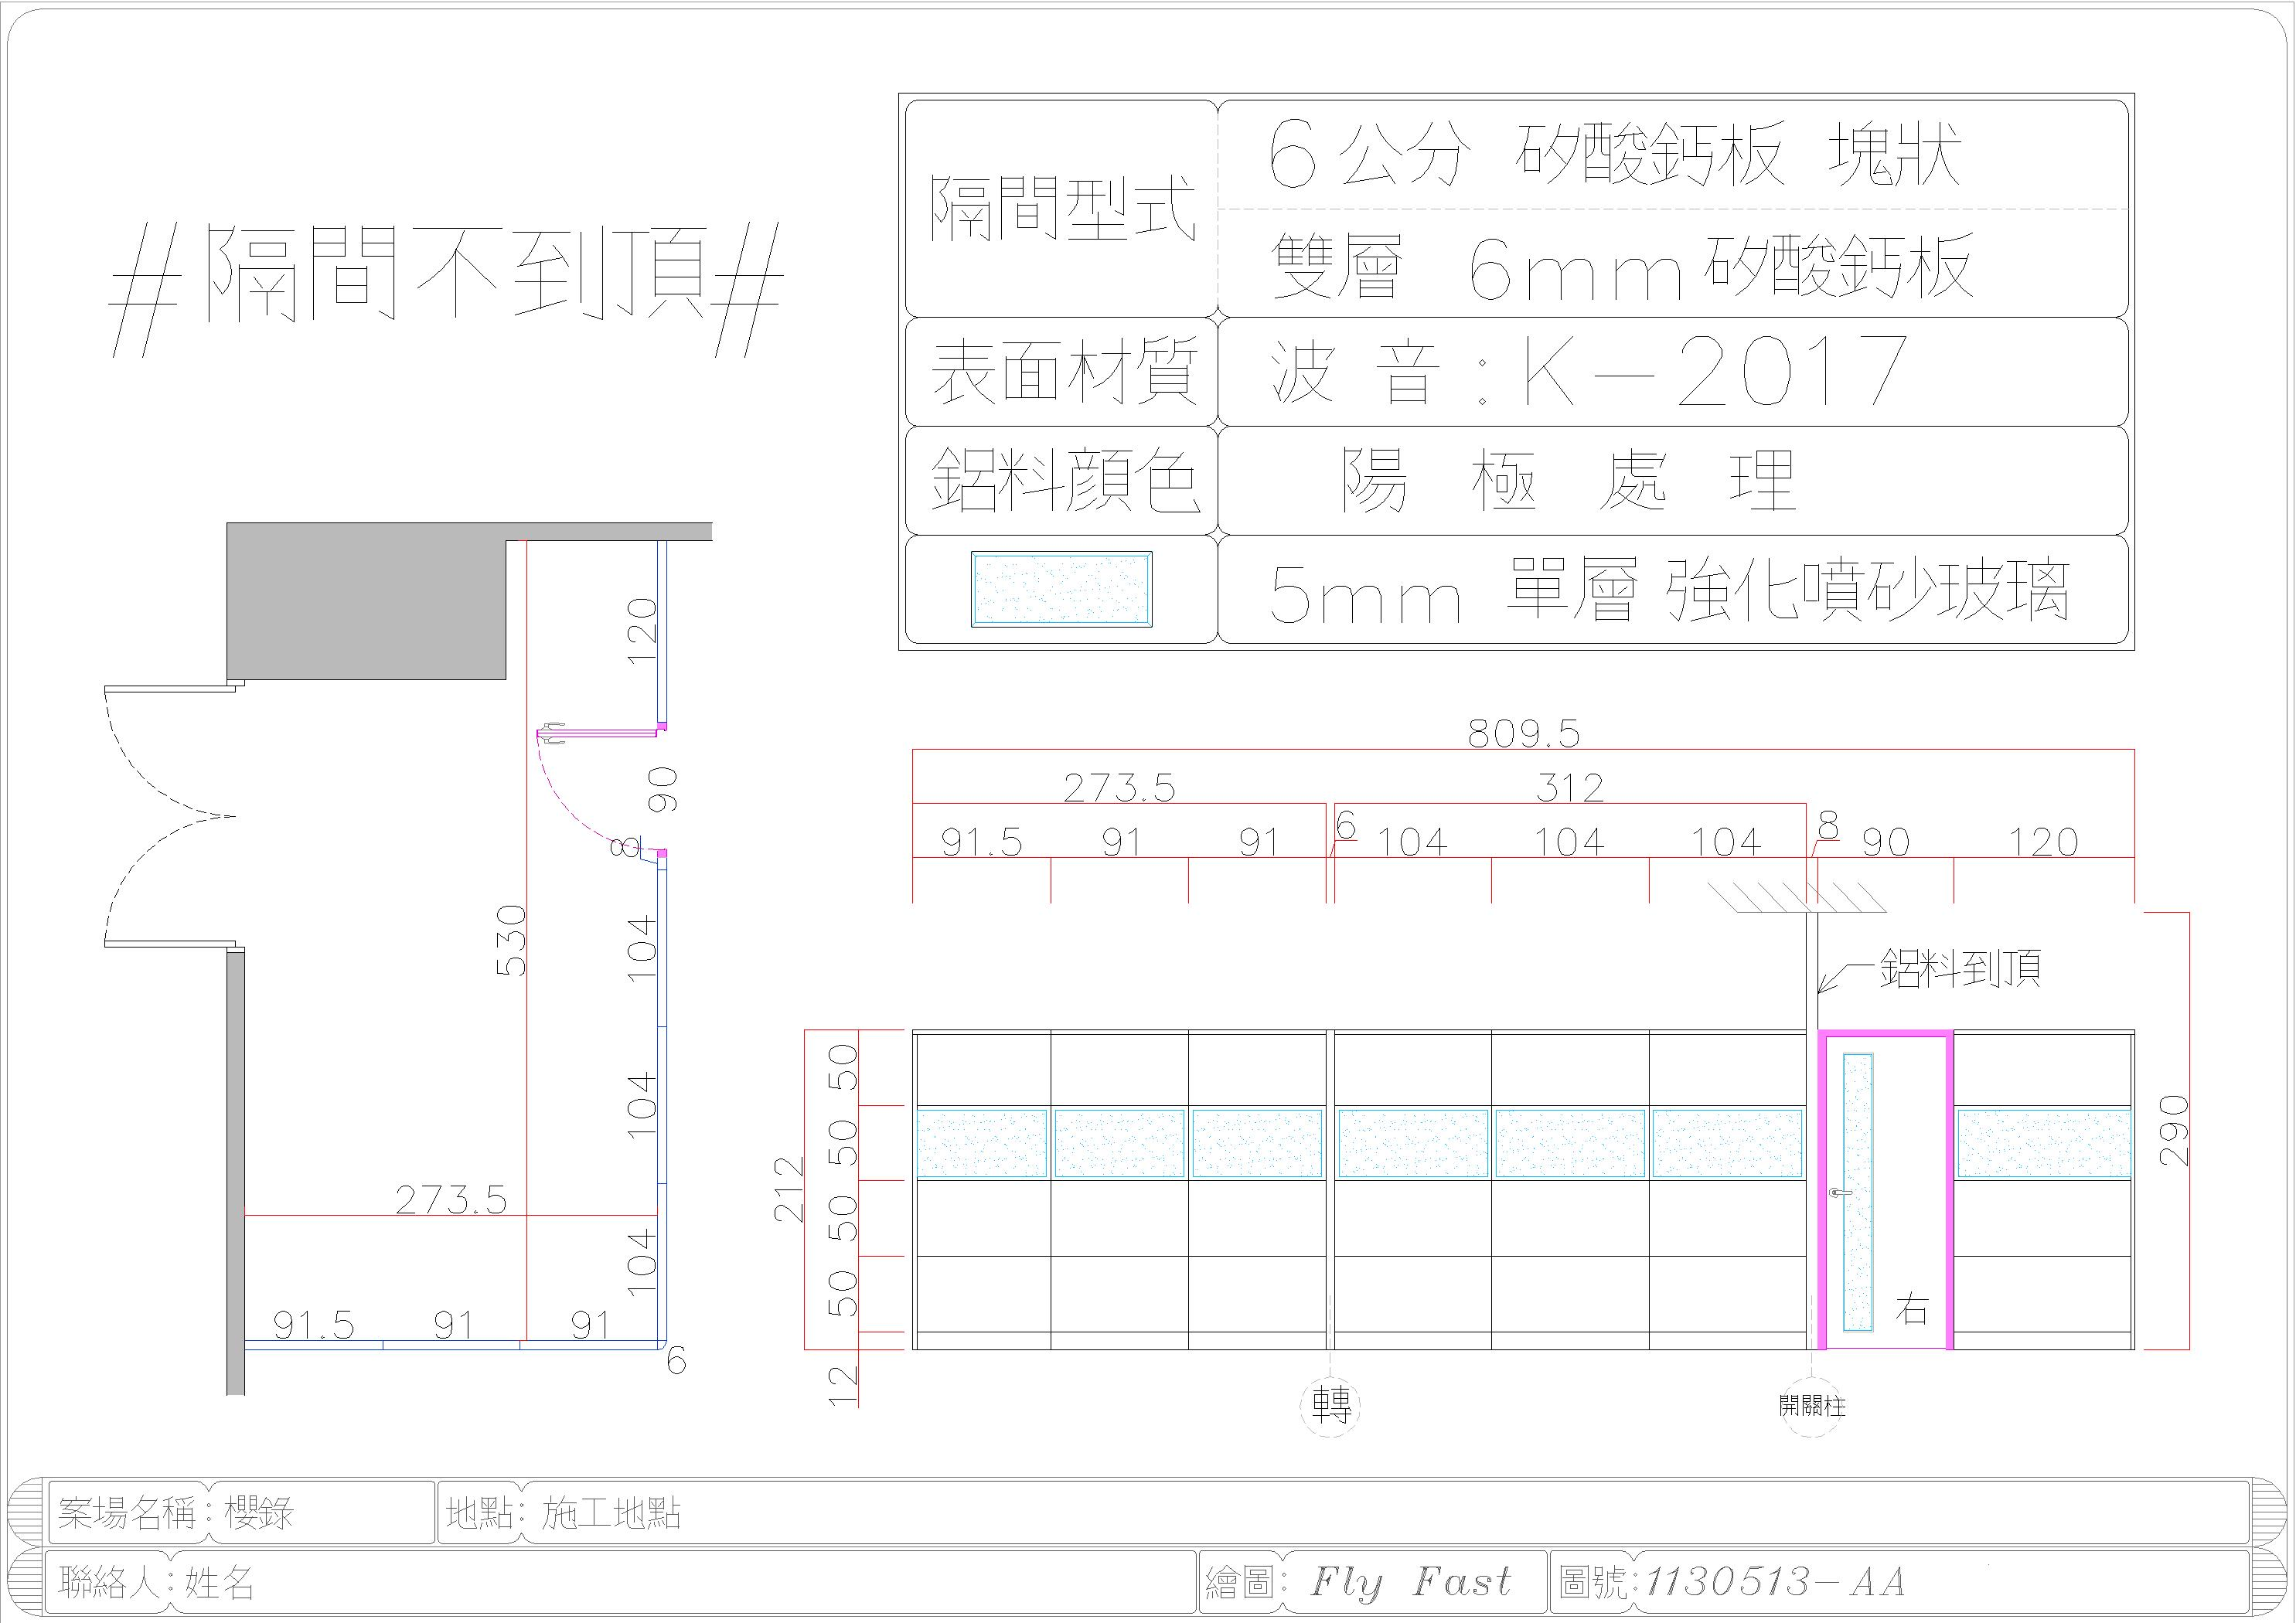GSP: (1337, 1110, 1490, 1179), (1052, 1108, 1188, 1180)
